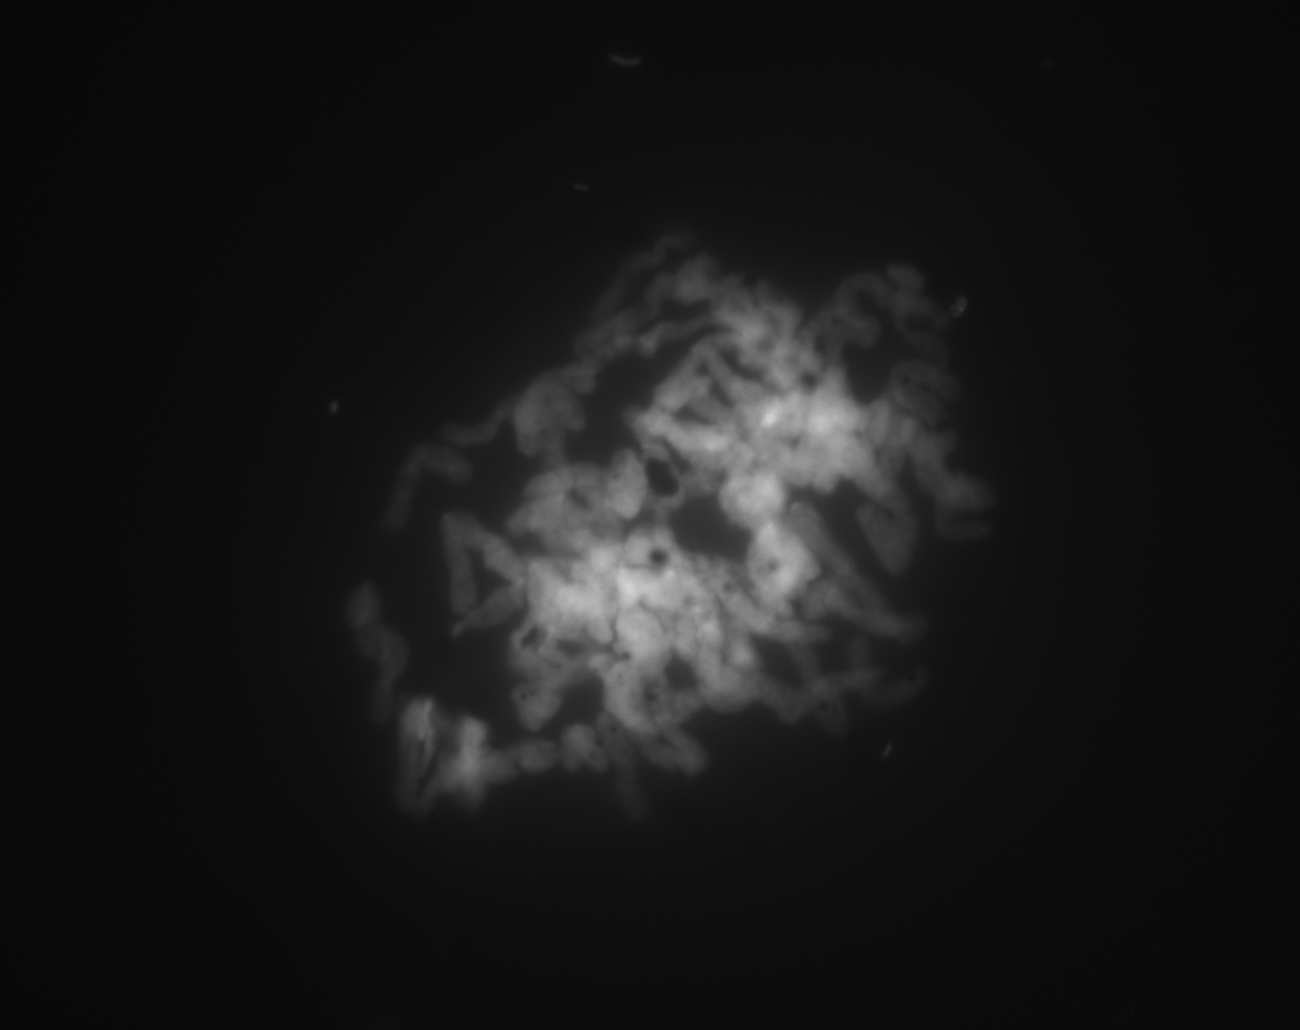Chromosomes: (286, 184, 1065, 863)
